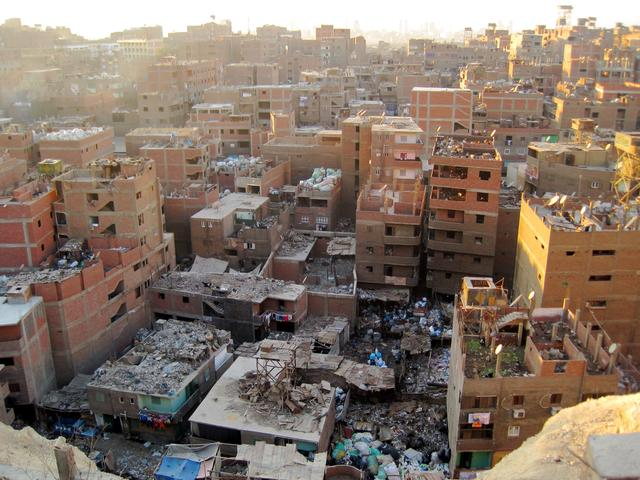garbage: (332, 393, 461, 480), (85, 325, 215, 385), (366, 297, 457, 347), (293, 161, 350, 197), (208, 148, 273, 179)
